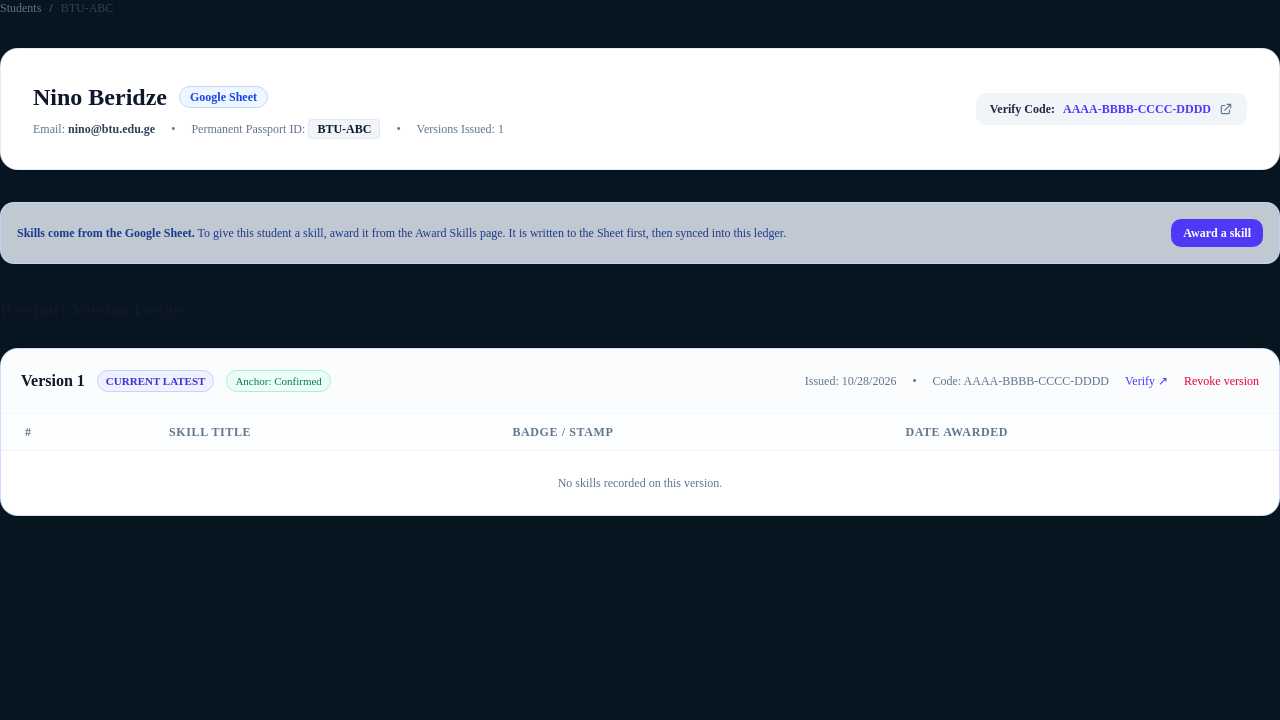
Scenario: admin student detail revocation controls › revokes a version and shows a revoked version with a restore button
What coordinates should you click on to do the following:
click the button "Revoke version"
I would click on:
 (1222, 381)
Its box is [1184,373,1259,389].
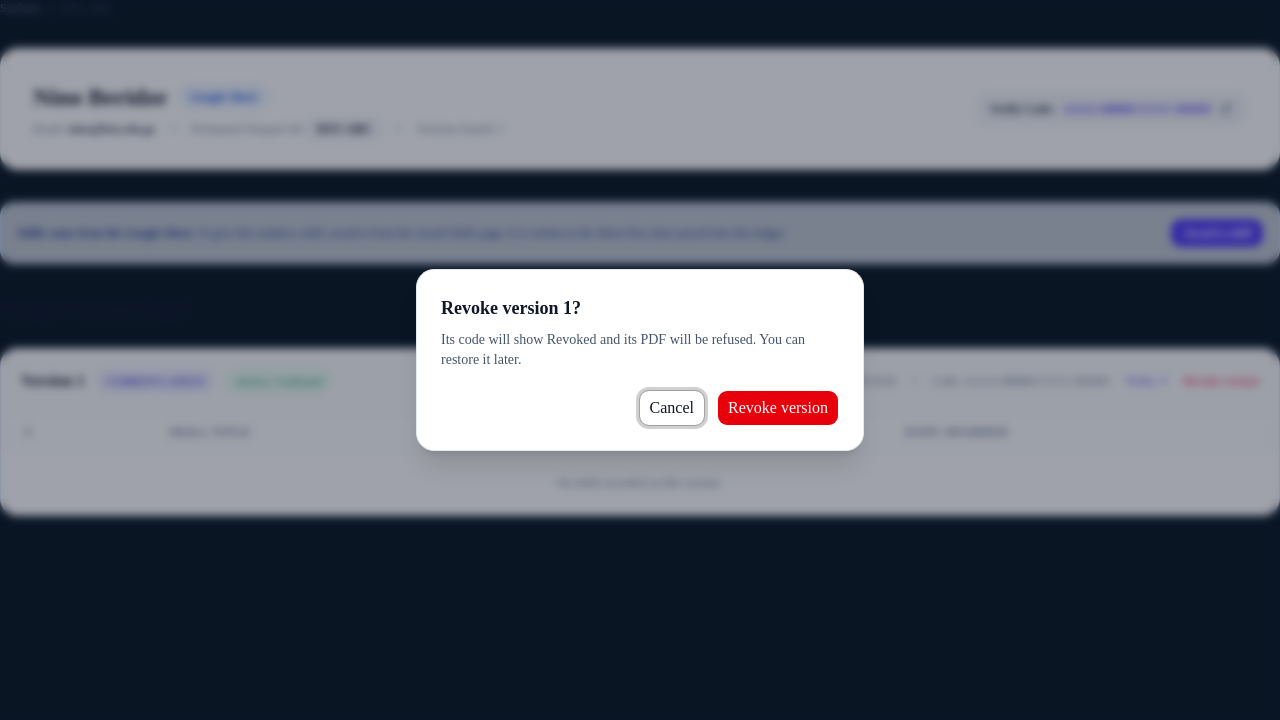
What coordinates should you click on to do the following:
click the button "Revoke version"
I would click on:
 (778, 408)
Its box is [717,390,839,426].
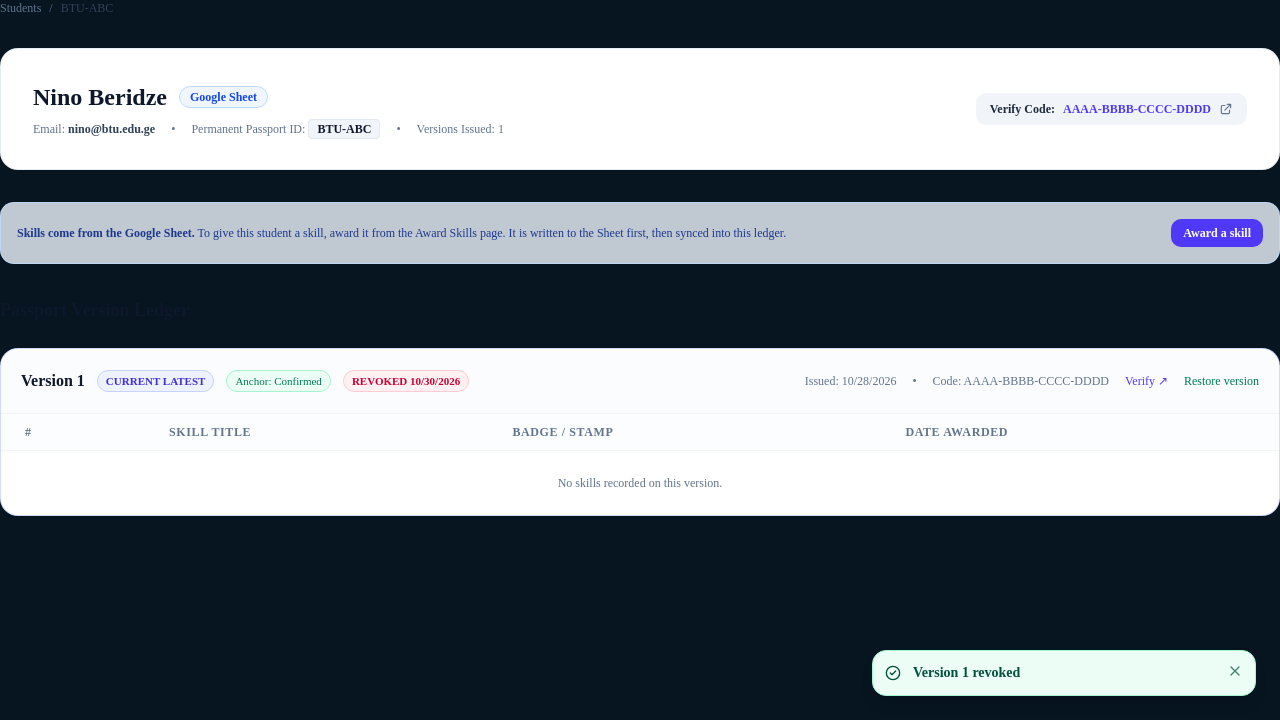
Expected: the text "REVOKED 10/30/2026" is shown, [343,370,469,392]
Expected: the button "Restore version" is shown, [1184,373,1259,389]
